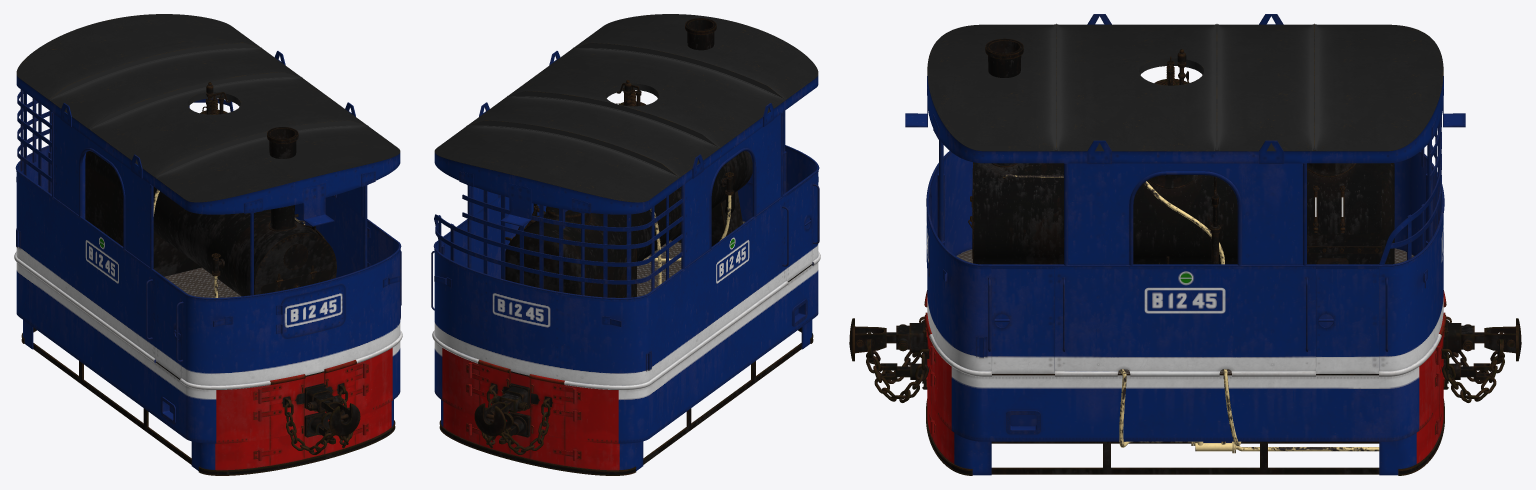
The model's file is liv2.gltf.
The picture shows the model from 3 angles, left to right: view 1: azimuth 30°, elevation 25°; view 2: azimuth 150°, elevation 25°; view 3: azimuth 270°, elevation 25°; orthographic projection. The views are drawn at different scales.
Visible parts, largest first — view 1: body, Cube.046, bawah (×3), boiler, pintu, Cube.019 (×3), kap, tiang, tralis, int; view 2: body, Cube.046, bawah (×3), boiler, tralis, Cube.019 (×3), kap, pintu, tiang, int, BezierCurve; view 3: body, Cube.046, bawah (×3), boiler, pintu, Cube.019, BezierCurve, tiang, tralis, int, kap.
Boxes of the visible parts, x1,y1,x2,y2 form: body: (14,51,402,390); Cube.046: (16,14,400,202); bawah (×3): (16,262,400,475); boiler: (85,109,336,296); pintu: (155,220,394,378); Cube.019 (×3): (156,267,360,458); kap: (260,360,362,465); tiang: (16,111,401,362); tralis: (17,89,233,186); int: (205,82,326,276); body: (432,51,820,390); Cube.046: (434,14,818,202); bawah (×3): (434,262,818,475); boiler: (505,18,752,297); tralis: (434,190,682,297); Cube.019 (×3): (474,221,812,458); kap: (472,360,574,465); pintu: (441,173,812,281); tiang: (431,111,819,371); int: (505,80,734,241); BezierCurve: (643,195,731,285); body: (905,14,1465,376); Cube.046: (927,23,1443,151); bawah (×3): (926,346,1444,475); boiler: (970,38,1394,264); pintu: (926,195,1378,373); Cube.019: (849,219,1521,443); BezierCurve: (1003,174,1379,453); tiang: (933,114,1437,358); tralis: (1379,116,1441,264); int: (1166,49,1345,370); kap: (924,290,1446,436).
Bounding box in the file's own units: 2.26 × 3.05 × 4.8.
12 materials, 12 textured.
